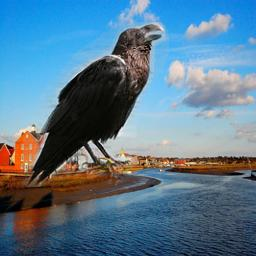Crow: (23, 22, 169, 187)
